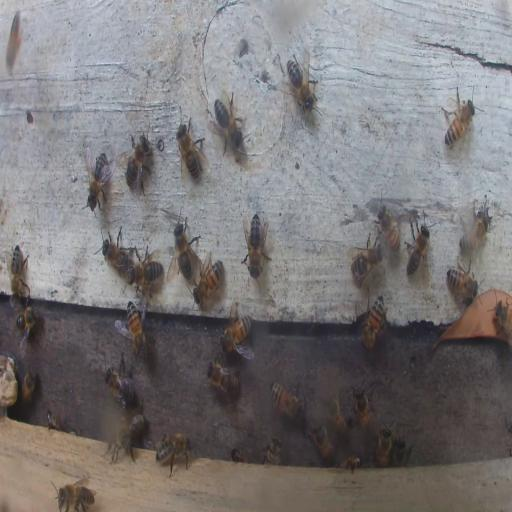nonpollenbee: (210, 92, 246, 154), (170, 212, 200, 281), (441, 88, 476, 147), (284, 53, 318, 111), (176, 116, 206, 179), (98, 224, 134, 276), (243, 211, 271, 276), (125, 133, 154, 195), (103, 357, 136, 410), (156, 428, 192, 476), (193, 252, 224, 306), (220, 305, 252, 355), (459, 204, 491, 254), (350, 231, 381, 282), (85, 151, 111, 211), (376, 195, 401, 256), (360, 294, 386, 350), (406, 218, 431, 276), (130, 250, 162, 293), (126, 300, 148, 361), (55, 480, 97, 511), (270, 382, 304, 420), (206, 359, 239, 398), (325, 394, 352, 439), (8, 244, 29, 300), (352, 380, 374, 433), (446, 263, 478, 299), (308, 421, 336, 462), (371, 420, 393, 467), (109, 432, 138, 462), (492, 301, 512, 339), (14, 305, 38, 336), (127, 407, 146, 446), (262, 434, 284, 465), (22, 368, 38, 404), (392, 436, 410, 465), (46, 408, 64, 430), (338, 456, 362, 472), (230, 448, 246, 462)
pollenbee: (6, 8, 24, 72)
